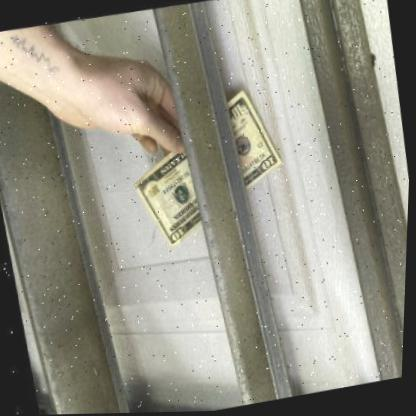dollar_front: (131, 88, 280, 249)
